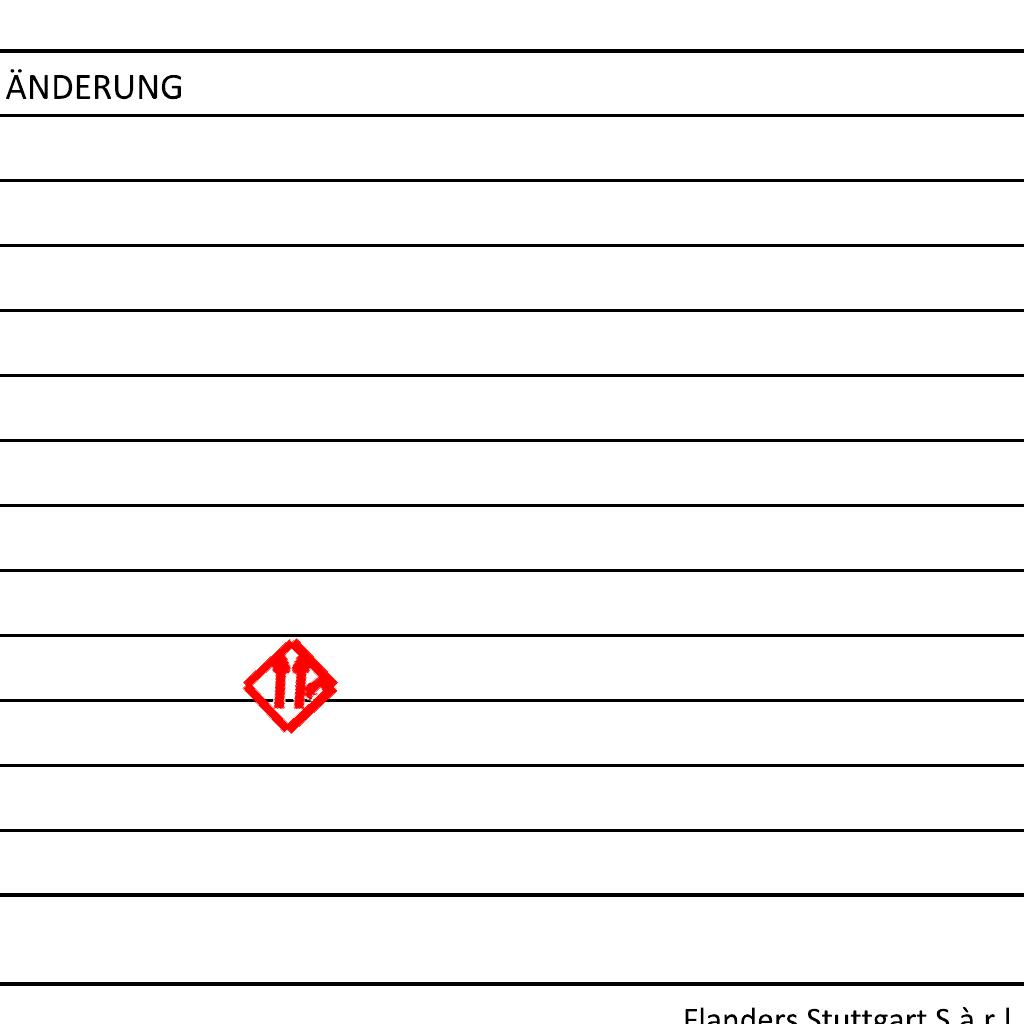OT_Multisensormelder_(Kombination_RMO_WMD): (212, 604, 373, 765)
